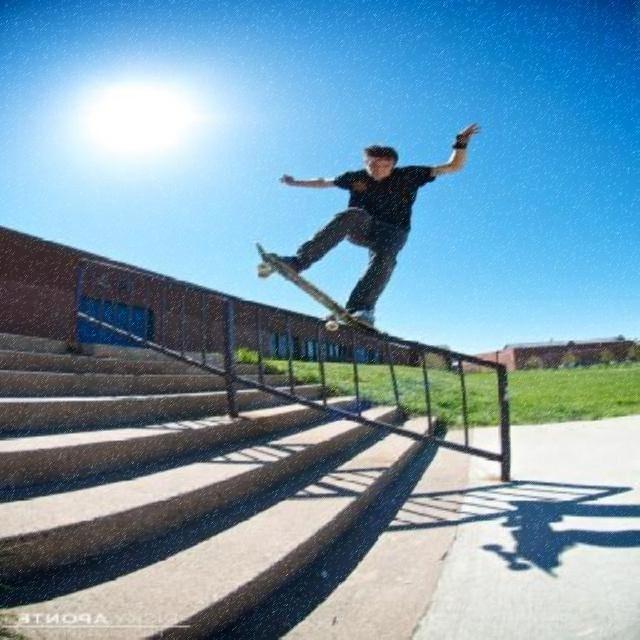stair: (0, 332, 440, 640)
